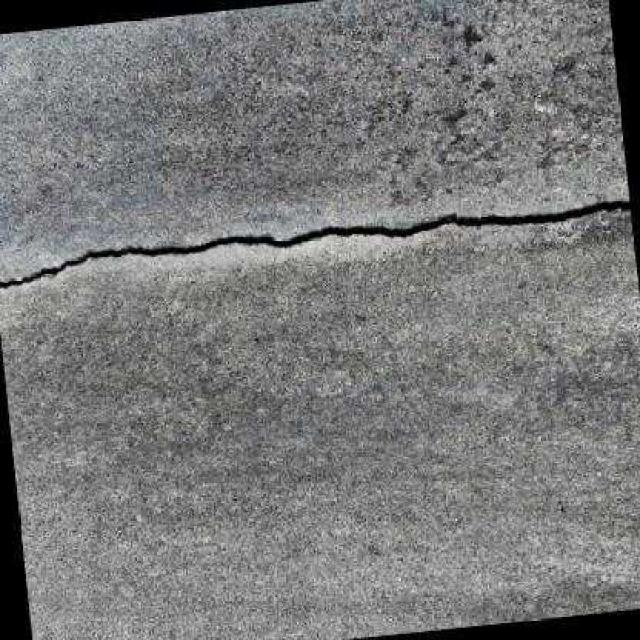D00: (0, 197, 630, 288)
